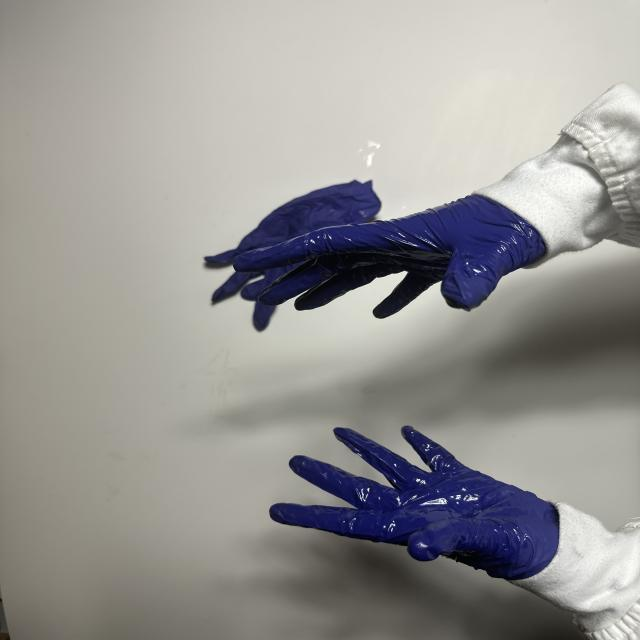gloves_contaminated: (270, 426, 559, 578), (234, 195, 546, 318)
